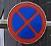No Parking: (7, 4, 50, 42)
